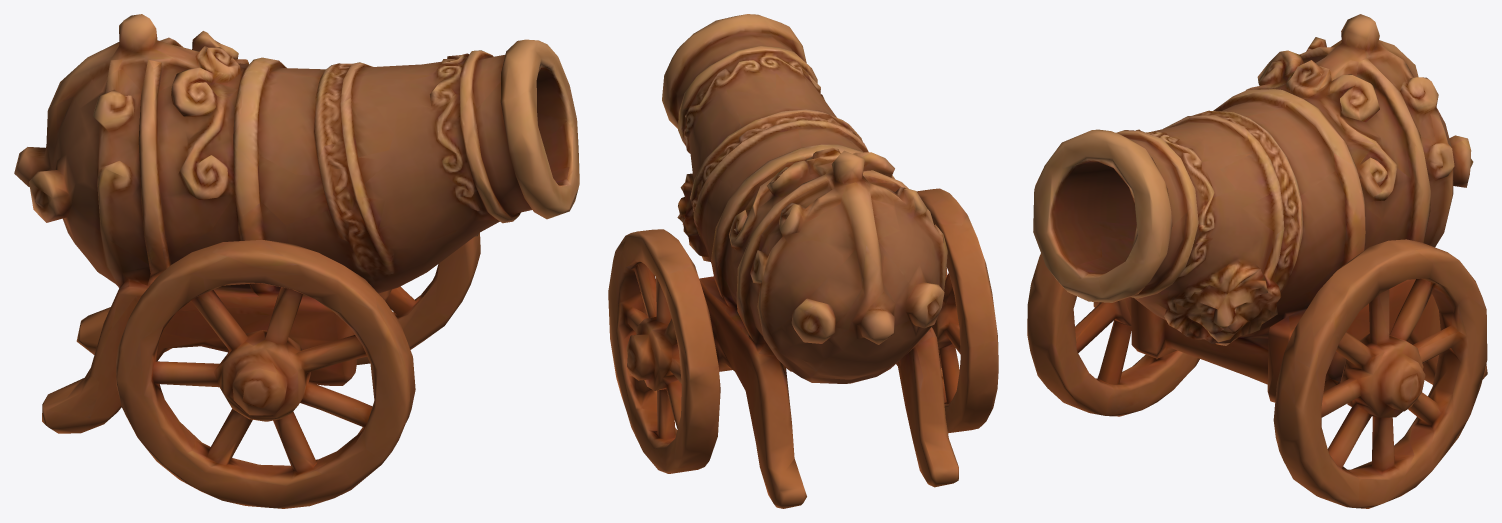
File: cannon.glb
3 views of the same model, side by side, from view 1: azimuth 30°, elevation 25°; view 2: azimuth 150°, elevation 25°; view 3: azimuth 270°, elevation 25° (orthographic). The views are drawn at different scales.
Visible parts, largest first — view 1: tripo_node_1cb5c84c-eca9-4e74-82a8-0a3889754925; view 2: tripo_node_1cb5c84c-eca9-4e74-82a8-0a3889754925; view 3: tripo_node_1cb5c84c-eca9-4e74-82a8-0a3889754925.
Part boxes in pixels (left/top/right/bottom): tripo_node_1cb5c84c-eca9-4e74-82a8-0a3889754925: left=14, top=14, right=579, bottom=508; tripo_node_1cb5c84c-eca9-4e74-82a8-0a3889754925: left=608, top=14, right=998, bottom=508; tripo_node_1cb5c84c-eca9-4e74-82a8-0a3889754925: left=1027, top=14, right=1487, bottom=508.
Bounding box in the file's own units: 0.5677 × 0.5 × 0.5398.
1 material, 1 textured.
